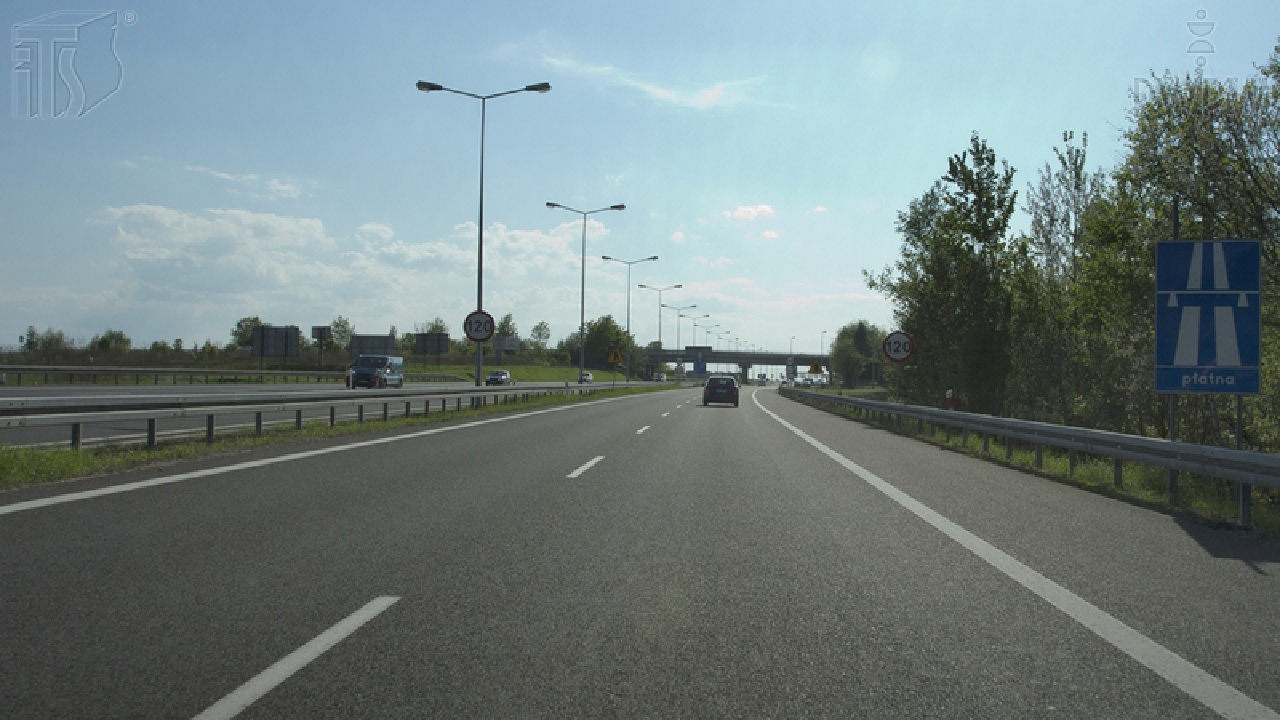B33_120: (883, 331, 914, 362), (464, 310, 494, 342)
D9: (1156, 240, 1260, 368)
